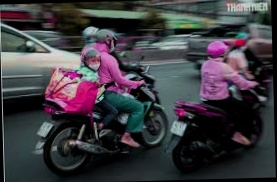Bien-so: (33, 119, 53, 136), (168, 122, 187, 139)
